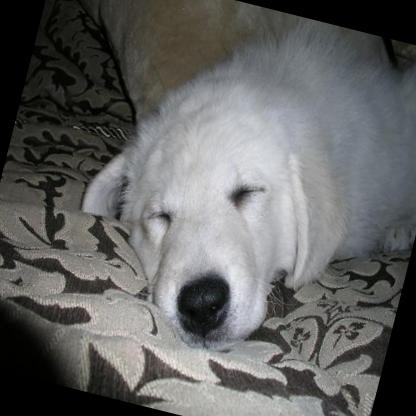kuvasz: (53, 0, 416, 394)
